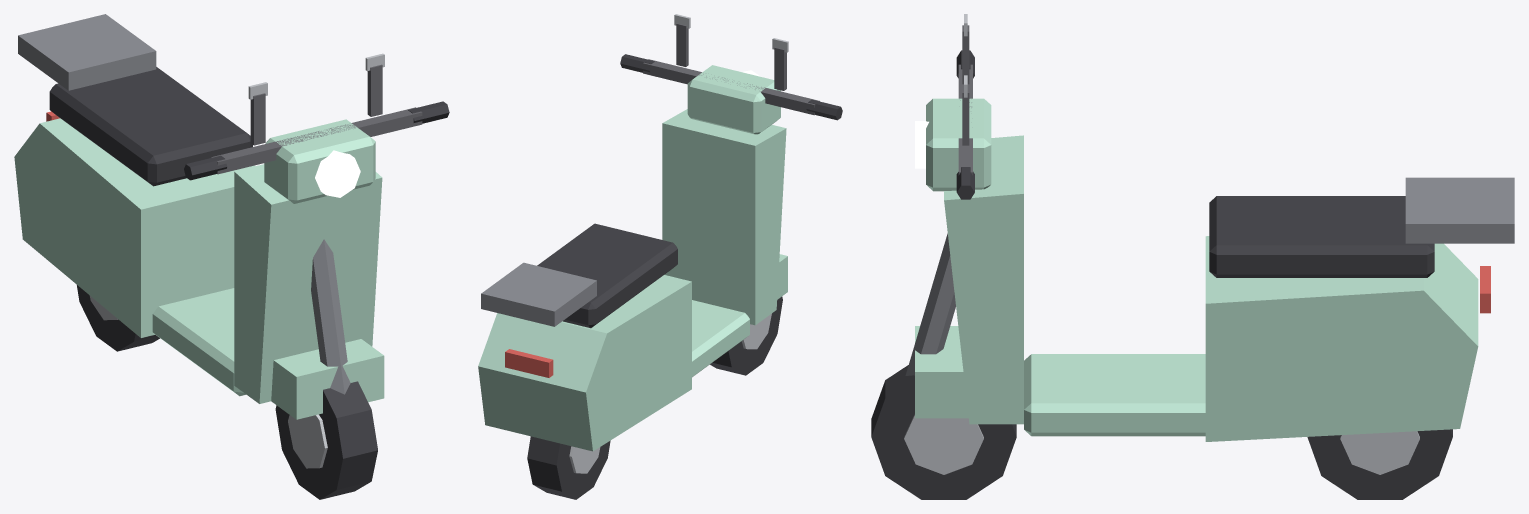
The model's file is prop_scooter_01.glb.
3 renders of one model, left to right at view 1: azimuth 30°, elevation 25°; view 2: azimuth 150°, elevation 25°; view 3: azimuth 270°, elevation 25°, orthographic. The views are drawn at different scales.
Visible parts, largest first — view 1: prop_scooter_01_body; view 2: prop_scooter_01_body; view 3: prop_scooter_01_body.
Boxes of the visible parts, left/top/right/bottom form: prop_scooter_01_body: left=14, top=14, right=449, bottom=499; prop_scooter_01_body: left=478, top=14, right=842, bottom=499; prop_scooter_01_body: left=871, top=14, right=1514, bottom=499.
Bounding box in the file's own units: 0.88 × 1.34 × 1.77.
